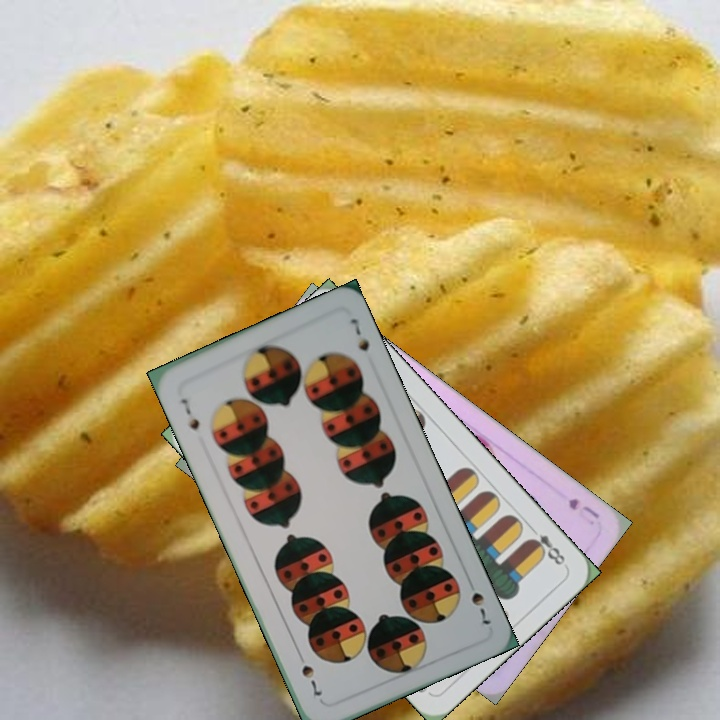E8: (524, 521, 568, 568)
S7: (463, 574, 494, 629), (176, 394, 202, 433)
SU: (563, 494, 602, 522)
